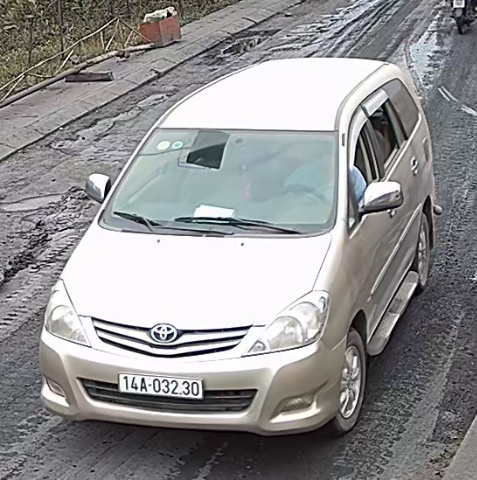vehicle plate: (118, 366, 207, 405)
